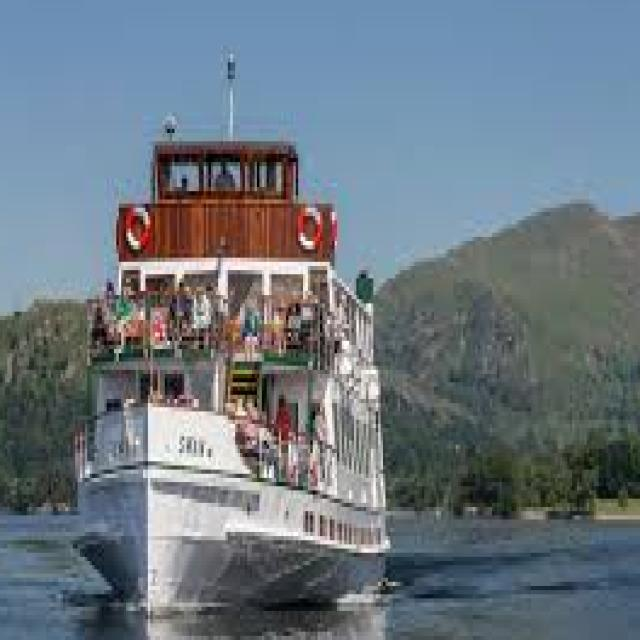passenger ship: (71, 110, 401, 614)
